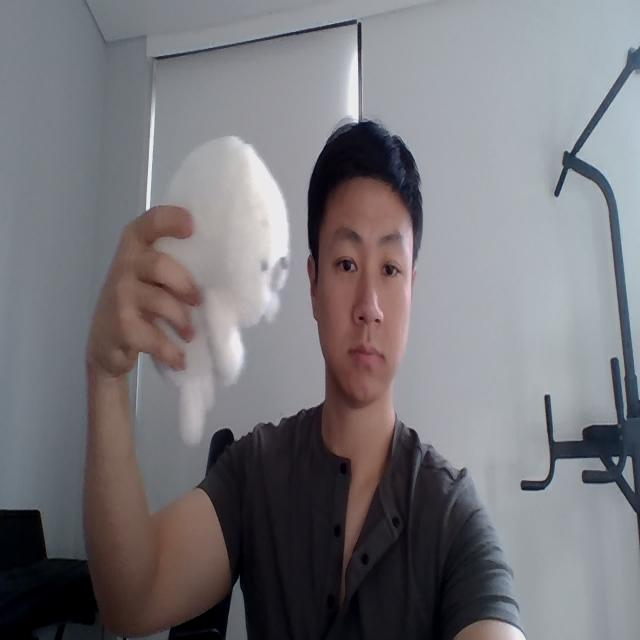seal_bb: (148, 136, 291, 448)
